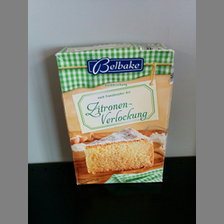cake: (54, 44, 176, 187)
